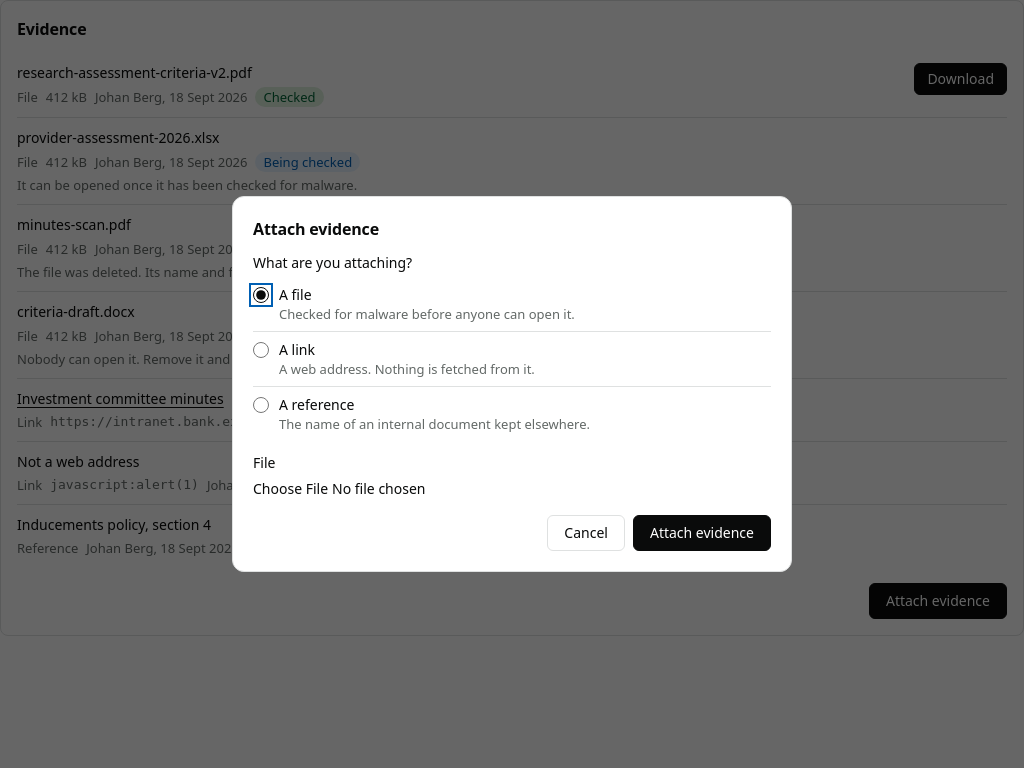
attaching › says in words when no scanner can check a file, and the cap in the server’s words
Earlier steps of the test are not shown.
Later steps or results of the test are not shown.
Click the button "Attach evidence".
click(702, 533)  # box [633,515,771,551]
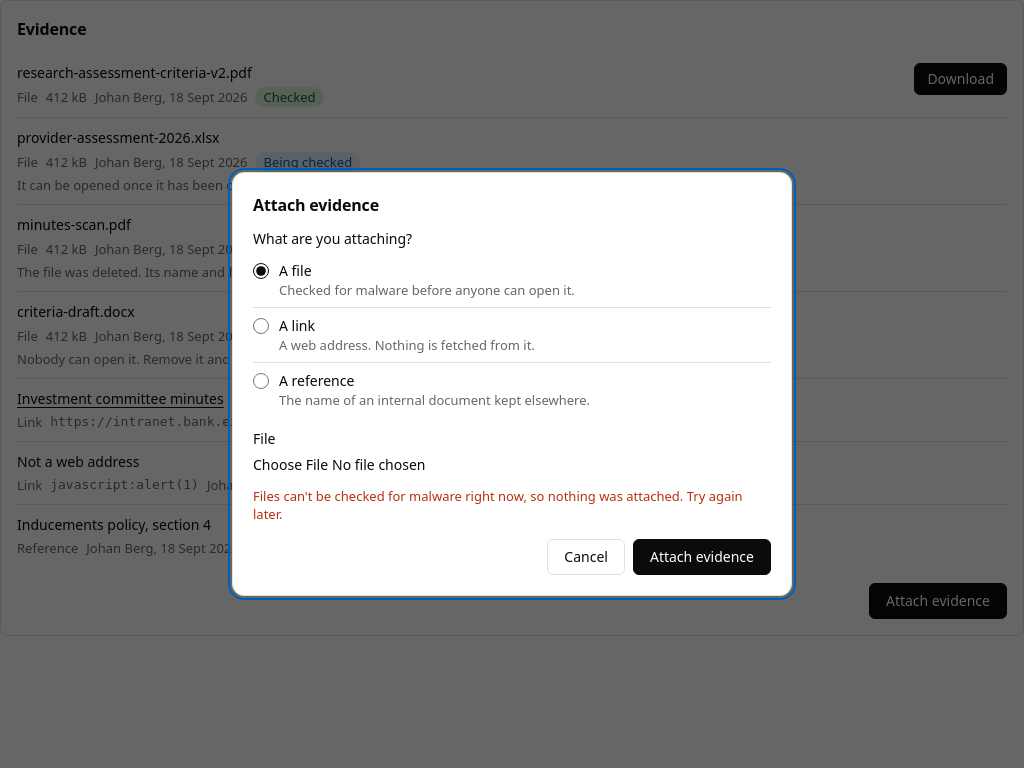
Expected: the text "Files can't be checked for malware right now, so nothing was attached. Try again later." is shown, [253,487,743,523]
